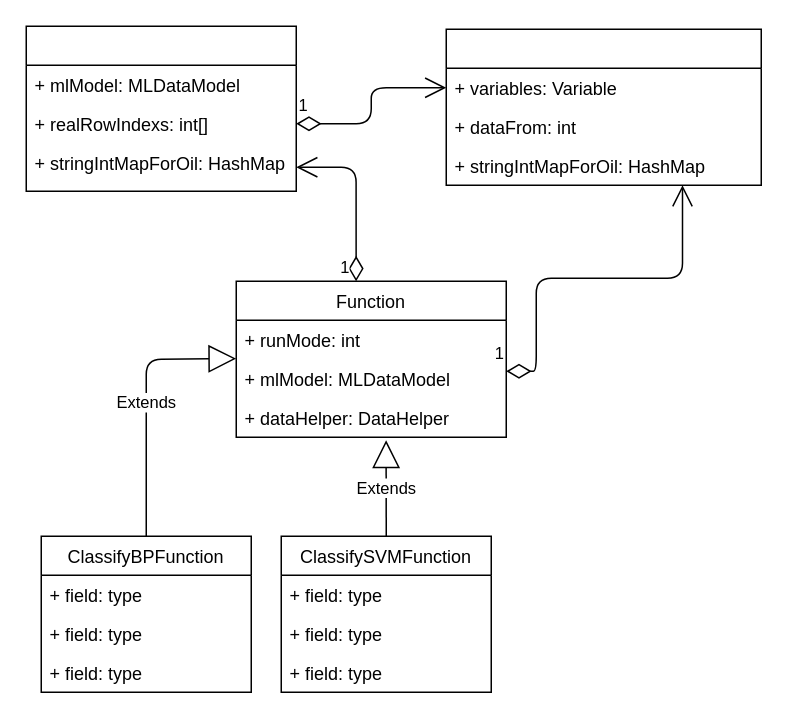
This 788x723 diagram has some shape labels left out. The shapes that lost their labels are listed below. From the top down, each one's box as (x1, y1, x2, y2) in pixels, then its label:
(25, 25, 296, 191): DataHelper
(445, 28, 761, 185): MLDataModel
